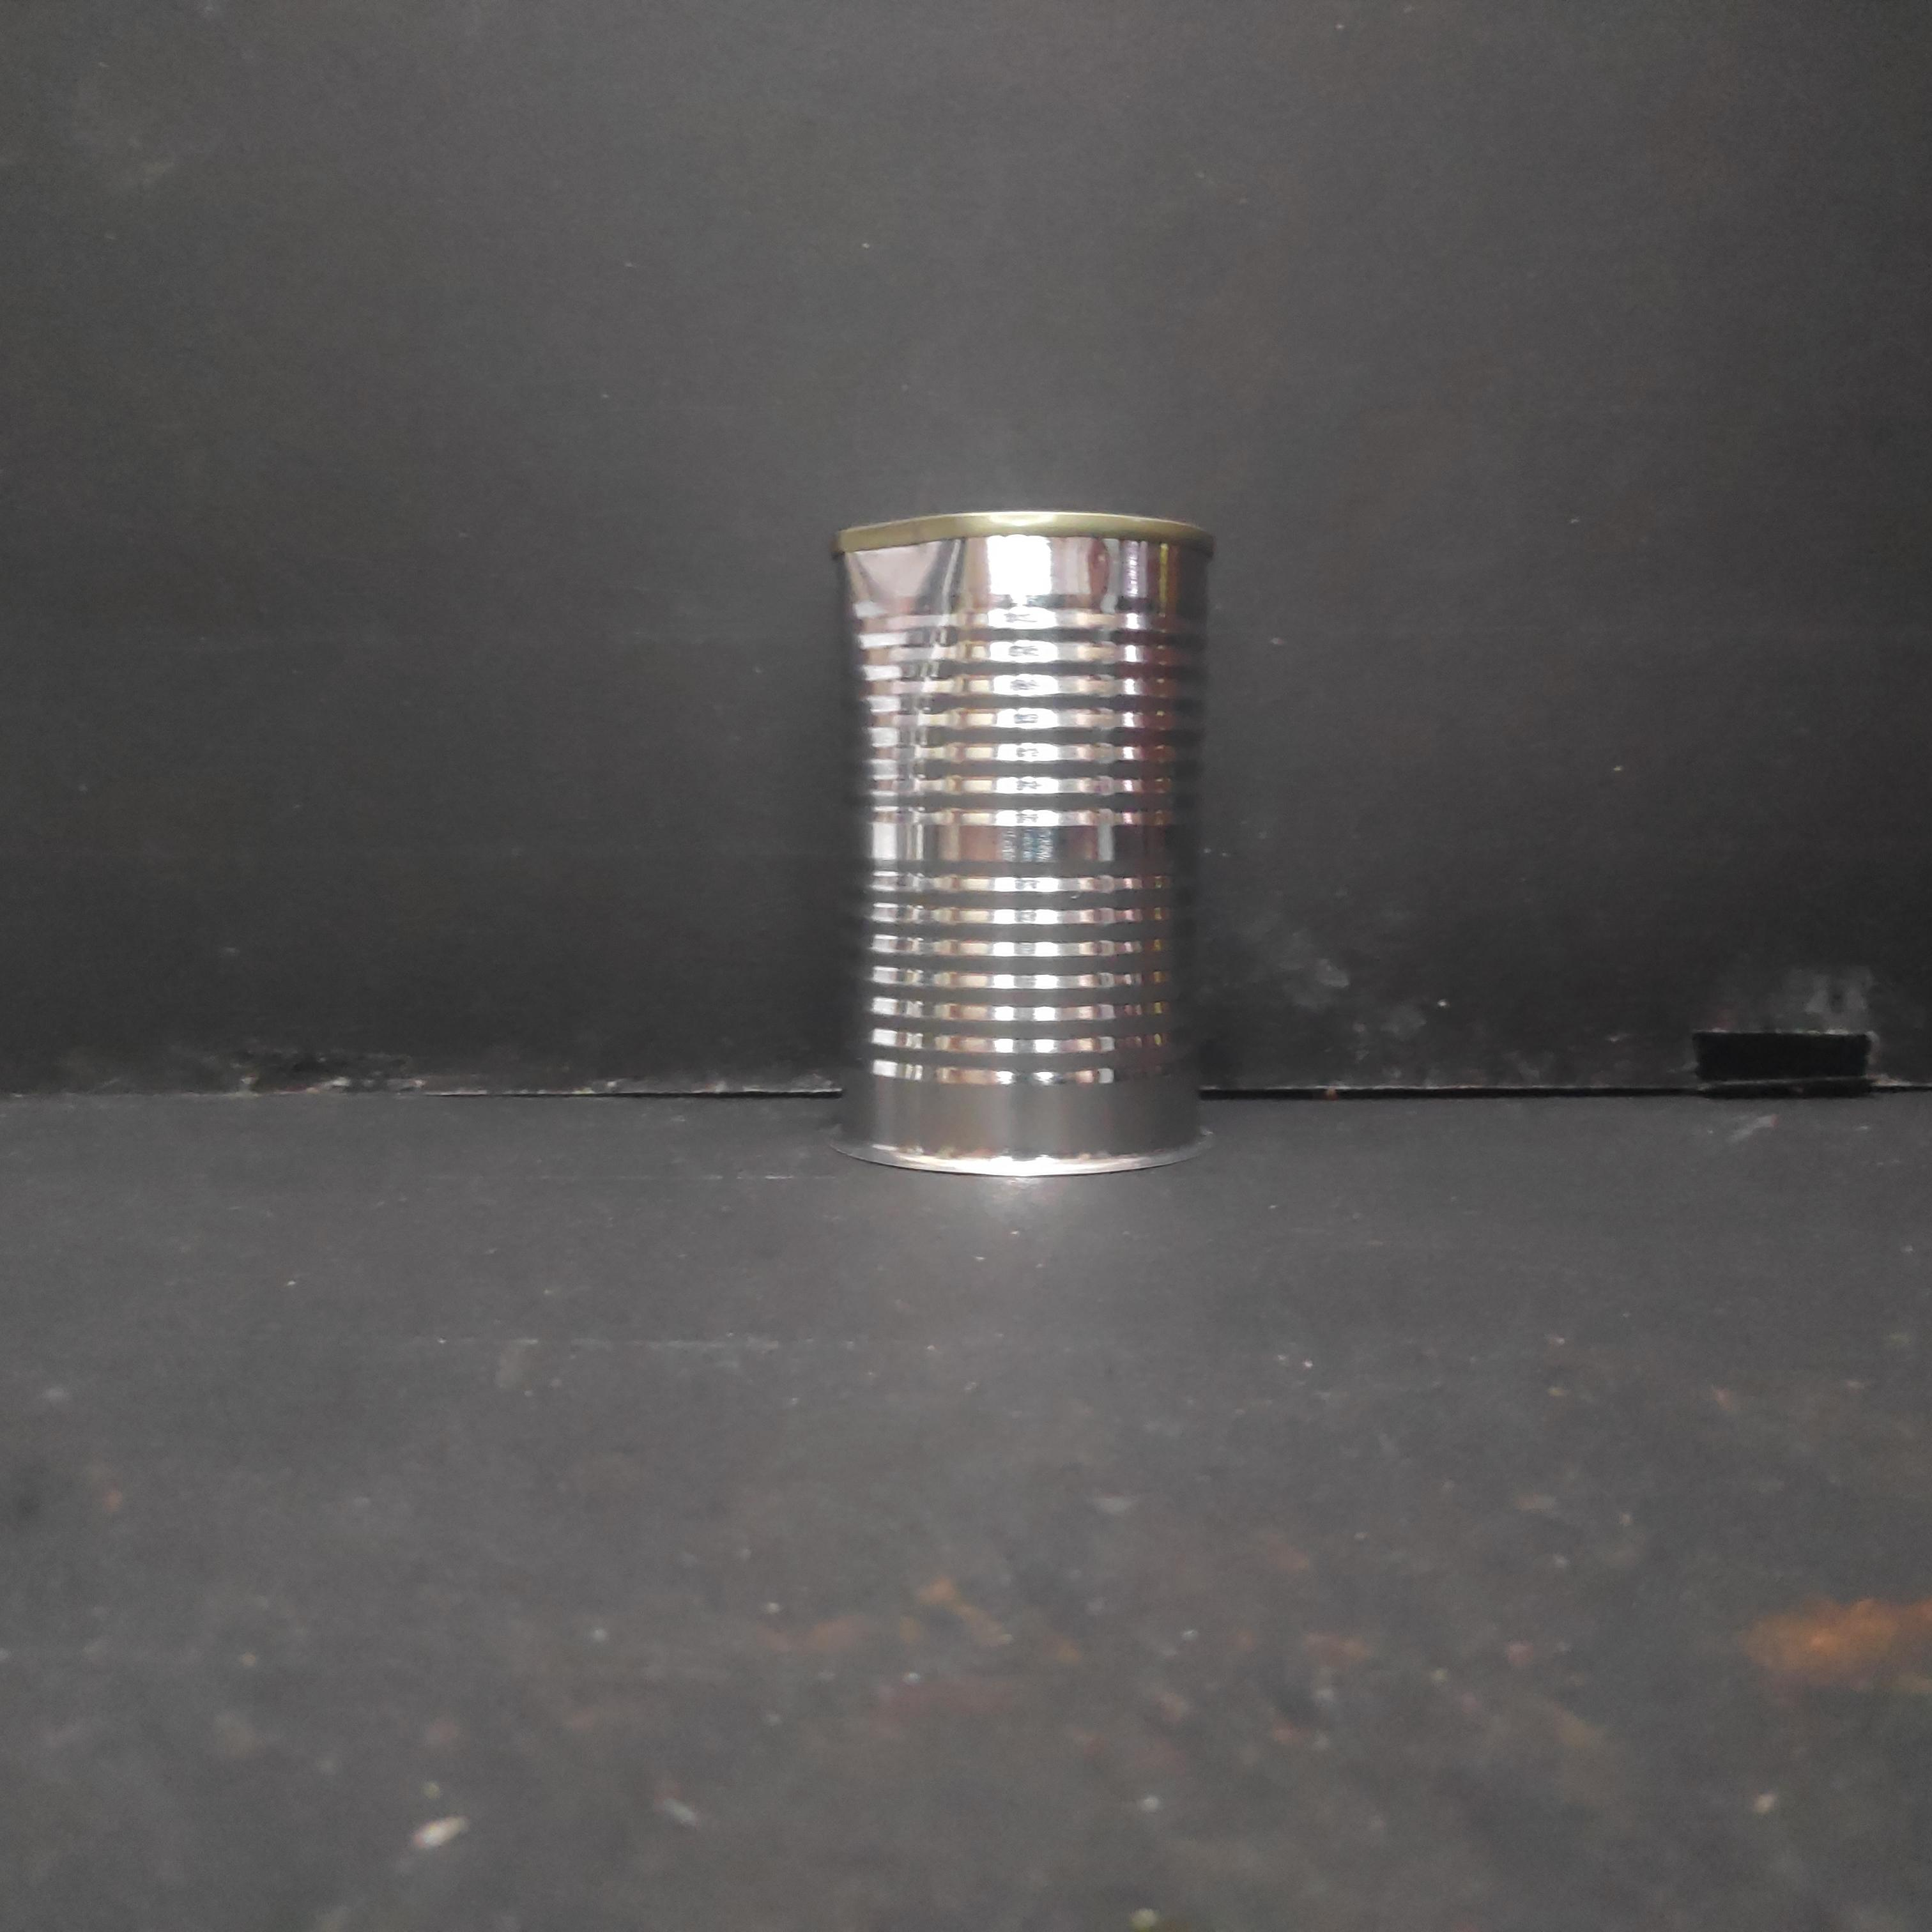Minor Defect: (825, 499, 1219, 1195)
